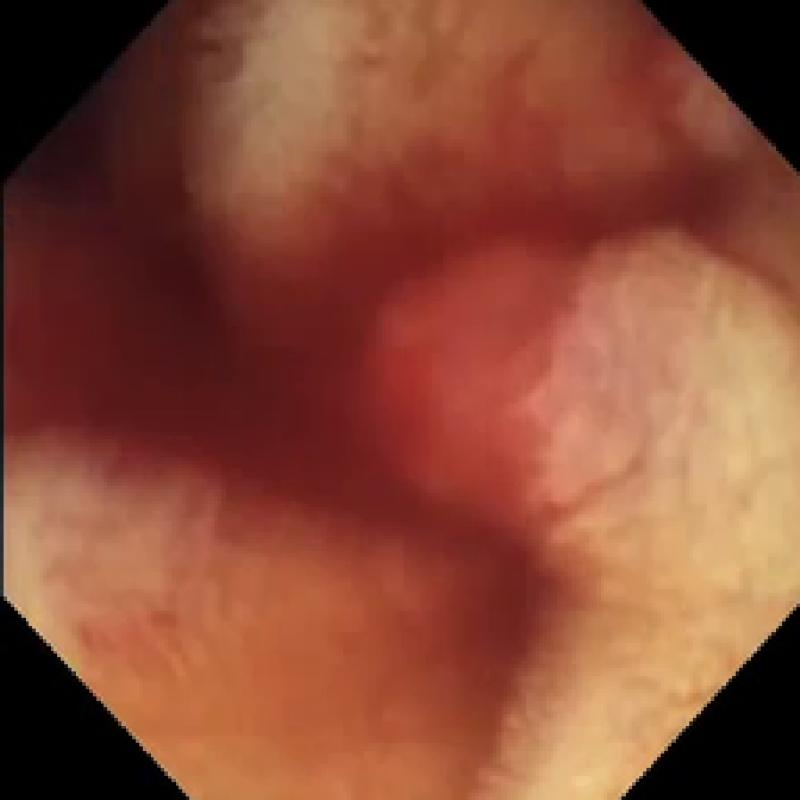bleeding: (0, 43, 800, 569), (427, 570, 554, 765)
